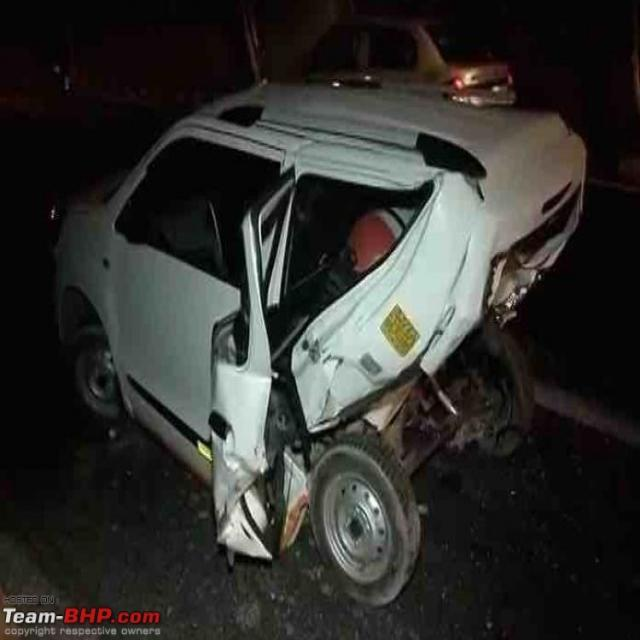accident: (52, 84, 585, 604)
